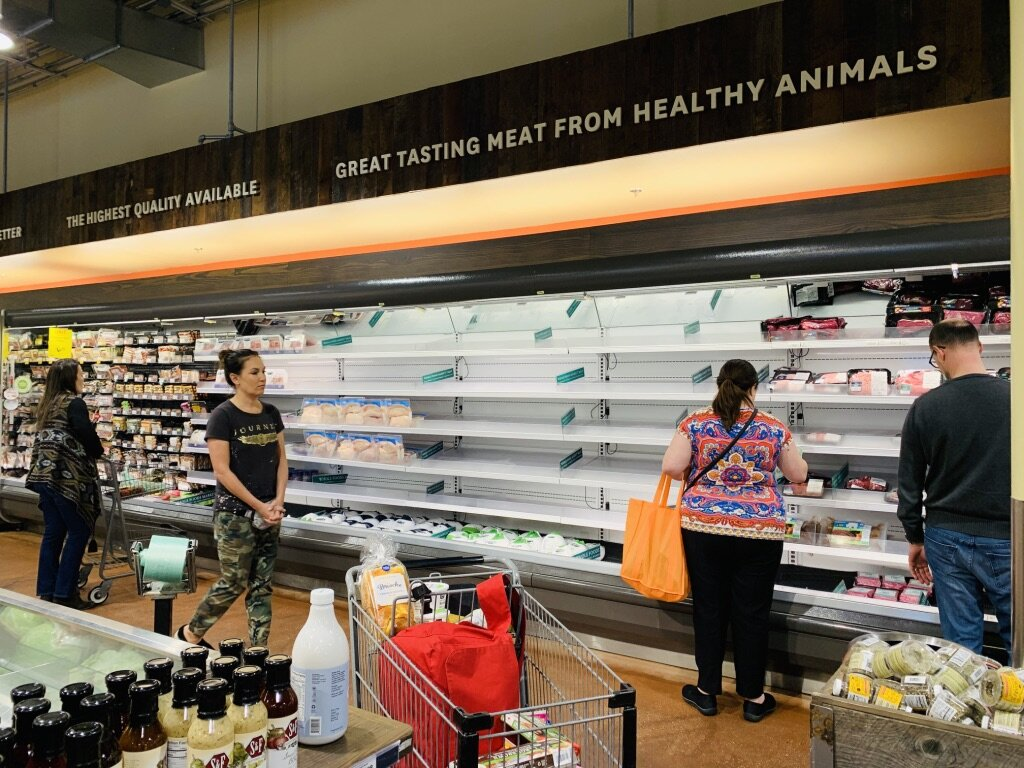Caution: (659, 318, 1011, 624), (24, 349, 289, 538)
Good: (204, 347, 808, 538)
